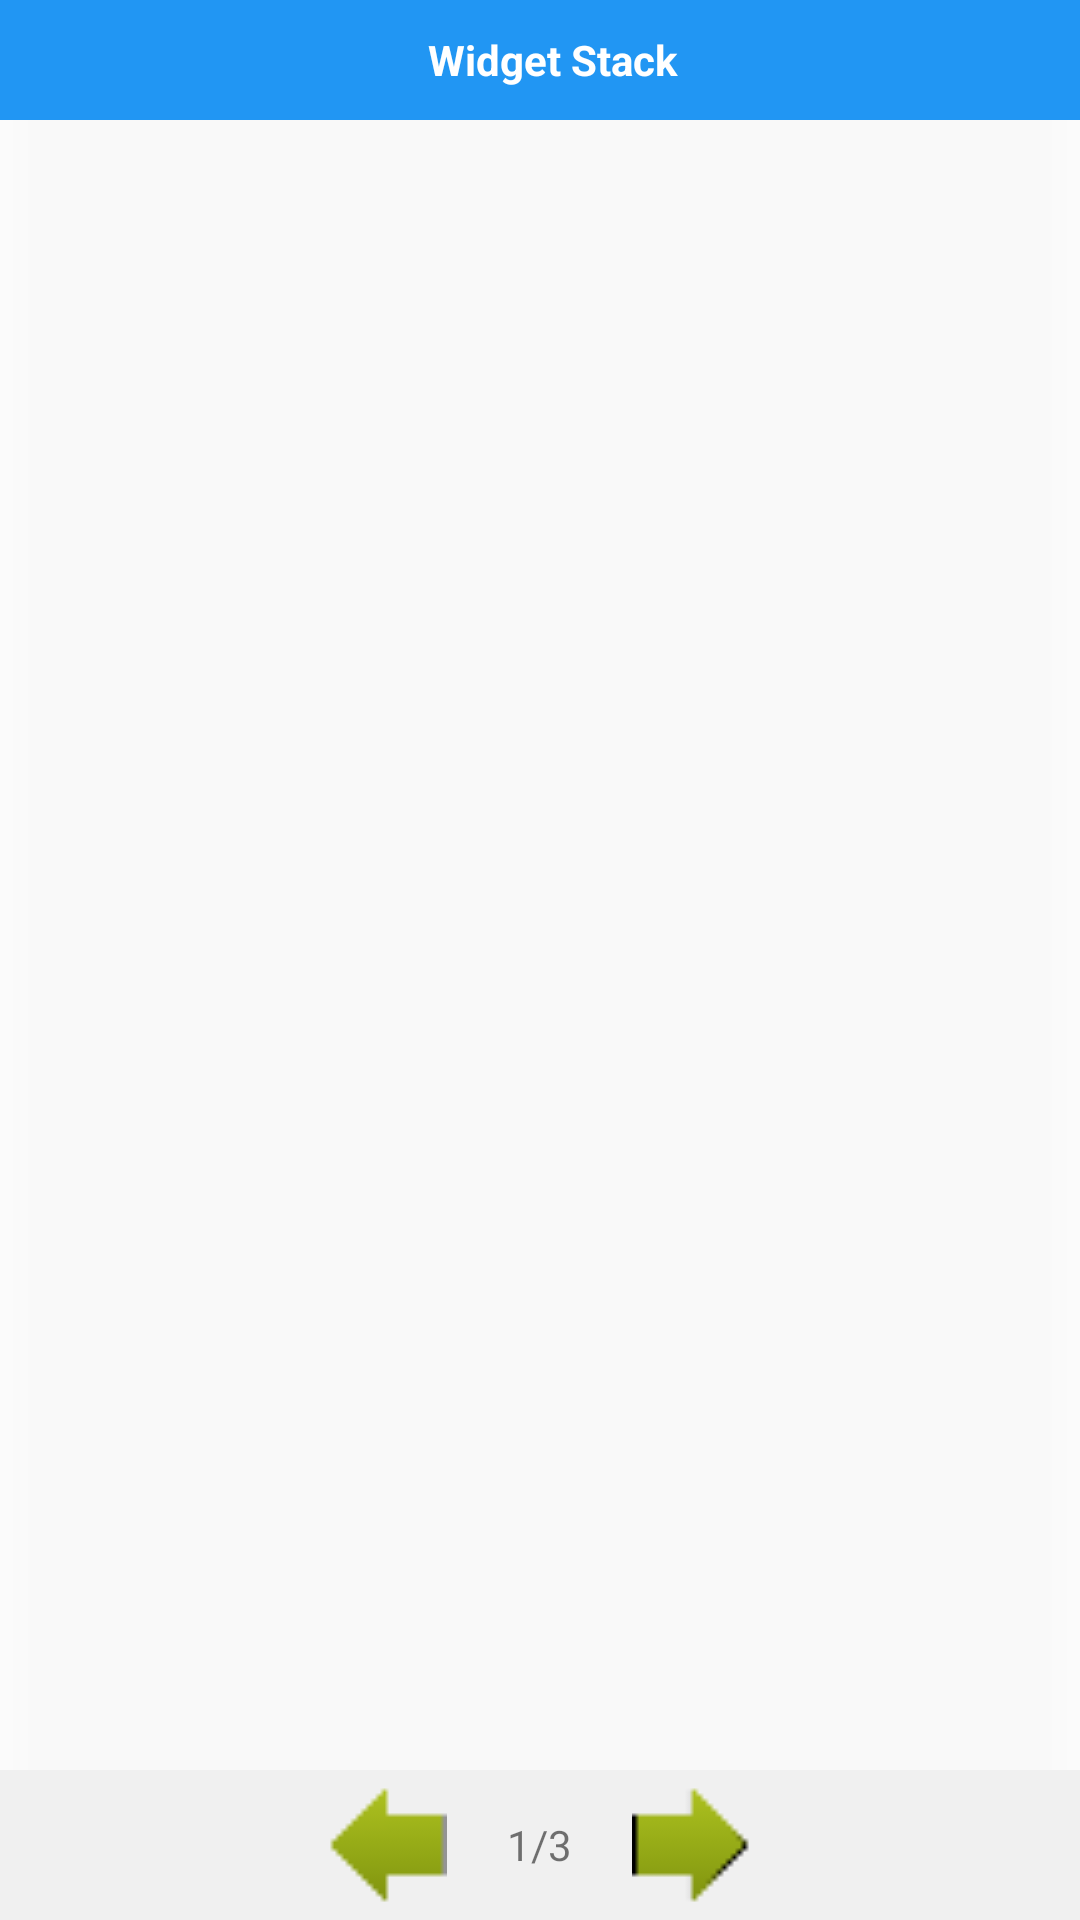

Where to tap for icons on this 1080 x 1920 app screen, as (x,y):
next: (690,1845)
prev: (388,1845)
